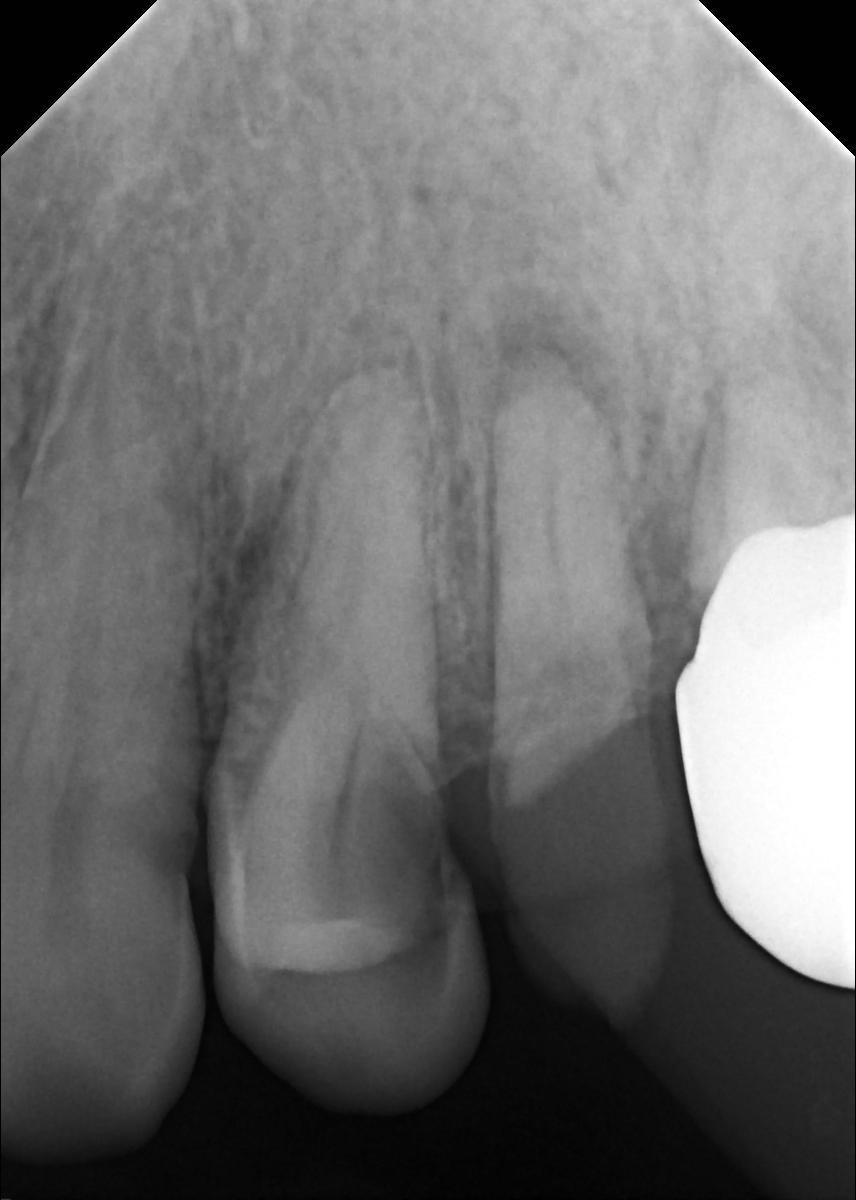Furcation Involvement: (486, 286, 623, 448)
